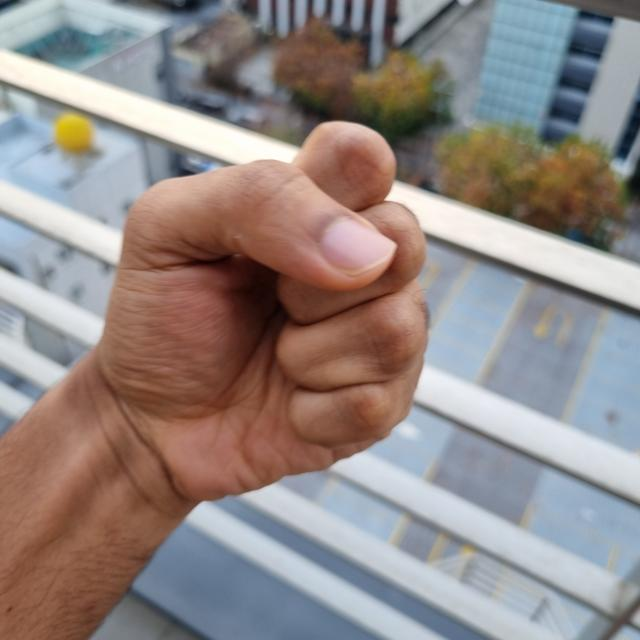Rock: (82, 120, 429, 502)
